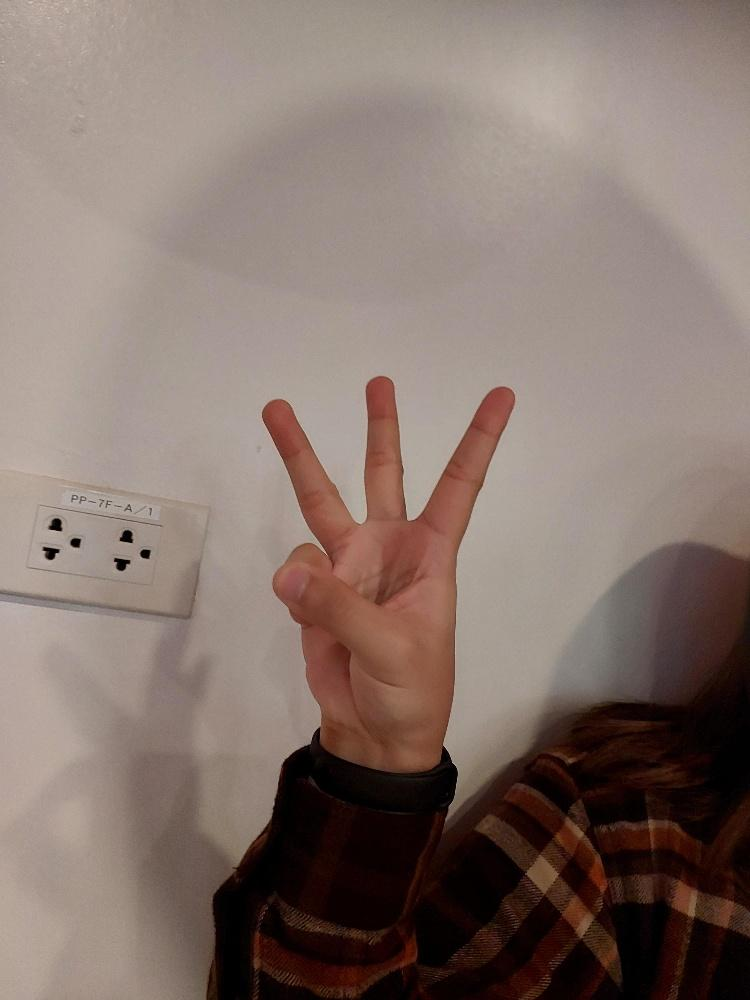w: (258, 369, 516, 748)
